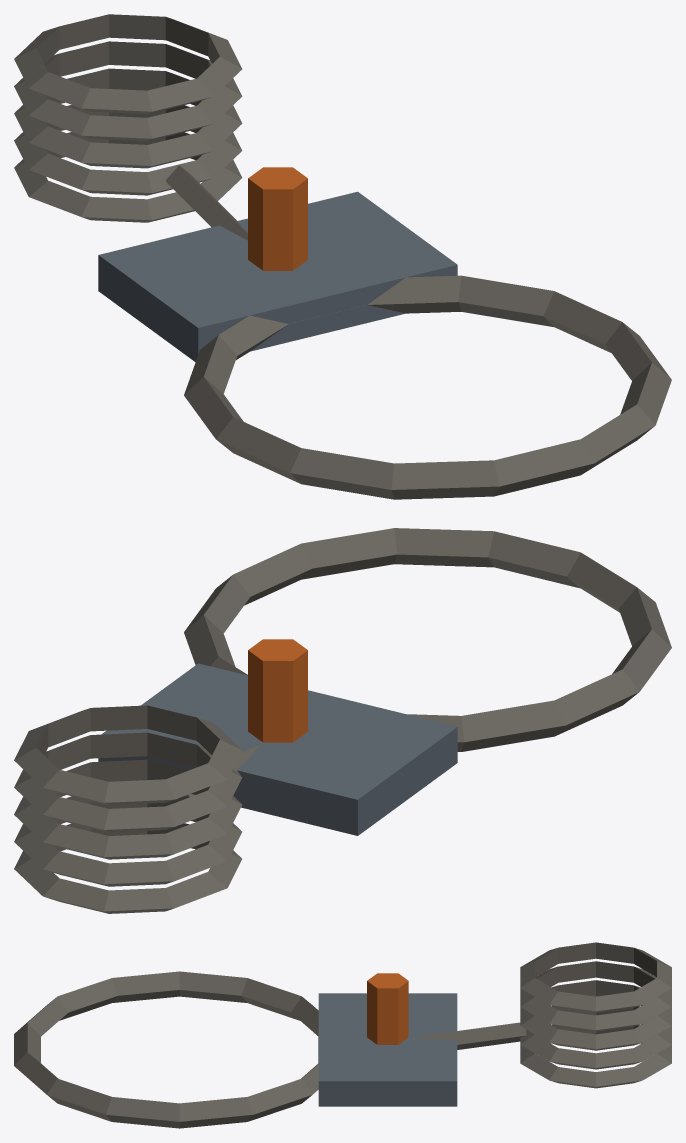
The model's file is snare.glb.
The picture shows the model from 3 angles, top to bottom: view 1: azimuth 30°, elevation 25°; view 2: azimuth 150°, elevation 25°; view 3: azimuth 270°, elevation 25°; orthographic projection. The views are drawn at different scales.
Visible parts, largest first — view 1: m; view 2: m; view 3: m.
Part boxes in pixels (box(x1,y1,x2,y2)): m: box(14, 14, 671, 499); m: box(14, 528, 671, 913); m: box(14, 942, 671, 1128).
Size of the model in its own units: 0.0879 by 0.0265 by 0.17.
